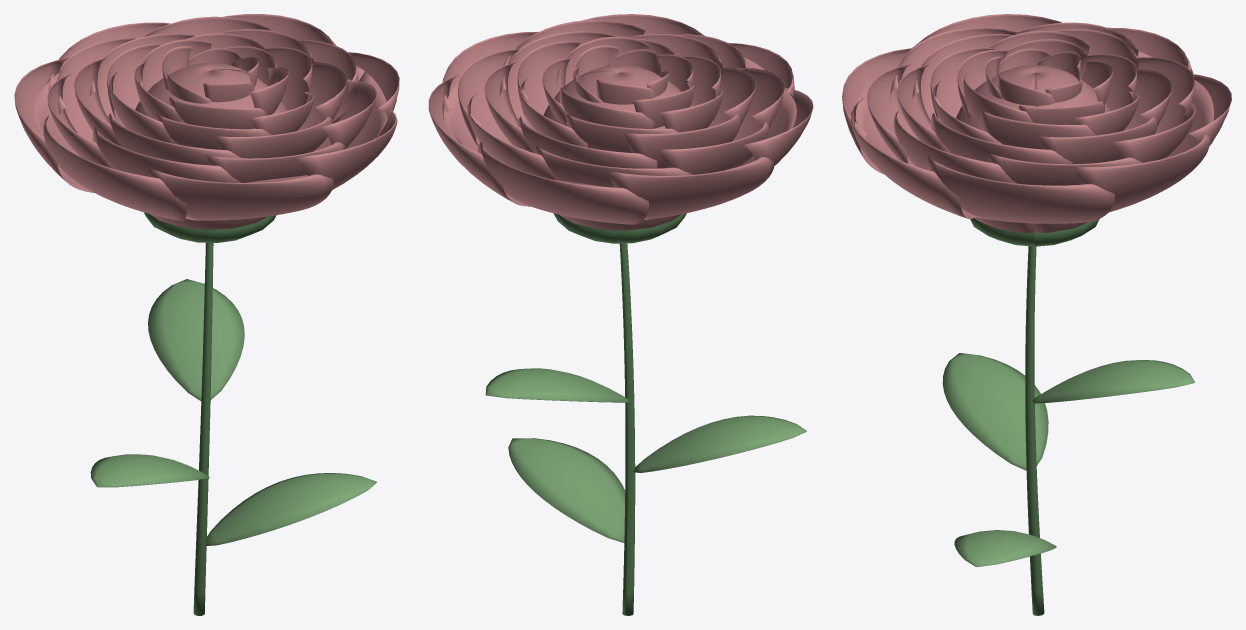
File: rose-epic-v2.glb
The picture shows the model from 3 angles, left to right: view 1: azimuth 30°, elevation 25°; view 2: azimuth 150°, elevation 25°; view 3: azimuth 270°, elevation 25°; orthographic projection.
Visible parts, largest first — view 1: rose-epic-v2-petal, rose-epic-v2-leaf, rose-epic-v2-stem; view 2: rose-epic-v2-petal, rose-epic-v2-leaf, rose-epic-v2-stem; view 3: rose-epic-v2-petal, rose-epic-v2-leaf, rose-epic-v2-stem.
Part boxes in pixels (left/top/right/bottom): rose-epic-v2-petal: left=14, top=14, right=399, bottom=229; rose-epic-v2-leaf: left=90, top=279, right=377, bottom=546; rose-epic-v2-stem: left=144, top=212, right=276, bottom=615; rose-epic-v2-petal: left=428, top=14, right=813, bottom=230; rose-epic-v2-leaf: left=485, top=368, right=806, bottom=542; rose-epic-v2-stem: left=553, top=213, right=686, bottom=615; rose-epic-v2-petal: left=842, top=14, right=1231, bottom=232; rose-epic-v2-leaf: left=942, top=353, right=1195, bottom=567; rose-epic-v2-stem: left=970, top=218, right=1099, bottom=615.
Size of the model in its own units: 1.13 by 1.77 by 1.13.
